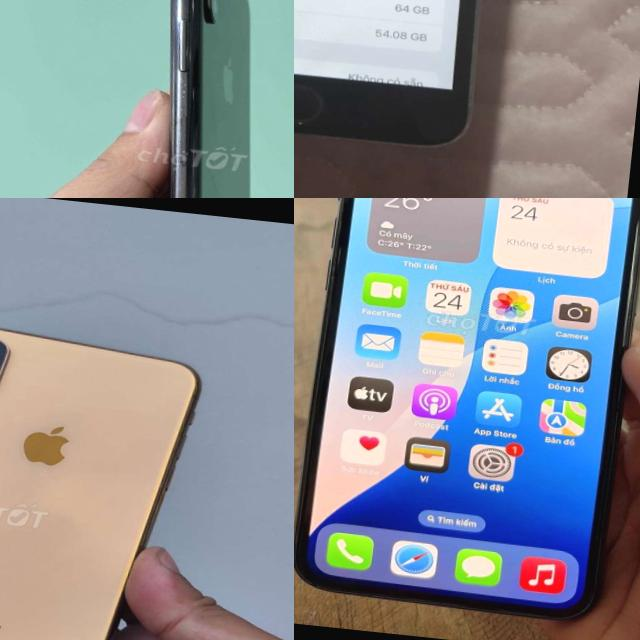gen_6: (294, 0, 478, 145)
gen_x_xs: (294, 198, 640, 626), (0, 330, 199, 640), (165, 0, 250, 198)
